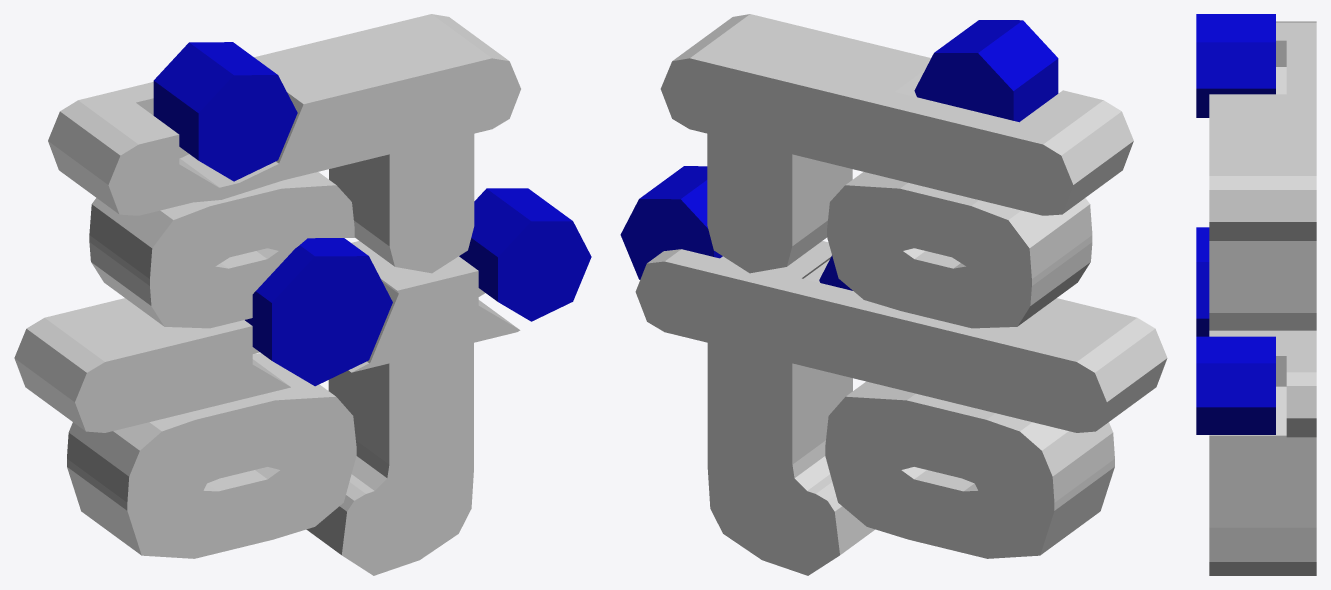
The model's file is Ch_Lite_China_哥_01.fbx.
3 renders of one model, left to right at view 1: azimuth 30°, elevation 25°; view 2: azimuth 150°, elevation 25°; view 3: azimuth 270°, elevation 25°, orthographic. The views are drawn at different scales.
Visible parts, largest first — view 1: sphere1; view 2: sphere1; view 3: sphere1.
Boxes of the visible parts, left/top/right/bottom form: sphere1: left=14, top=14, right=591, bottom=575; sphere1: left=620, top=14, right=1167, bottom=575; sphere1: left=1196, top=14, right=1316, bottom=575.
Bounding box in the file's own units: 0.9713 × 0.9876 × 0.2242.
